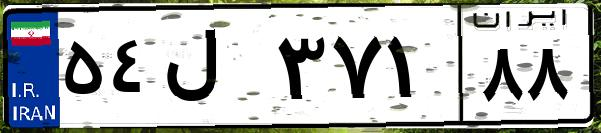1: (385, 28, 445, 110)
3: (270, 28, 330, 110)
4: (110, 28, 158, 98)
5: (57, 26, 110, 100)
7: (330, 28, 385, 110)
8: (475, 38, 525, 113), (525, 38, 570, 115)
ل: (158, 20, 270, 120)
